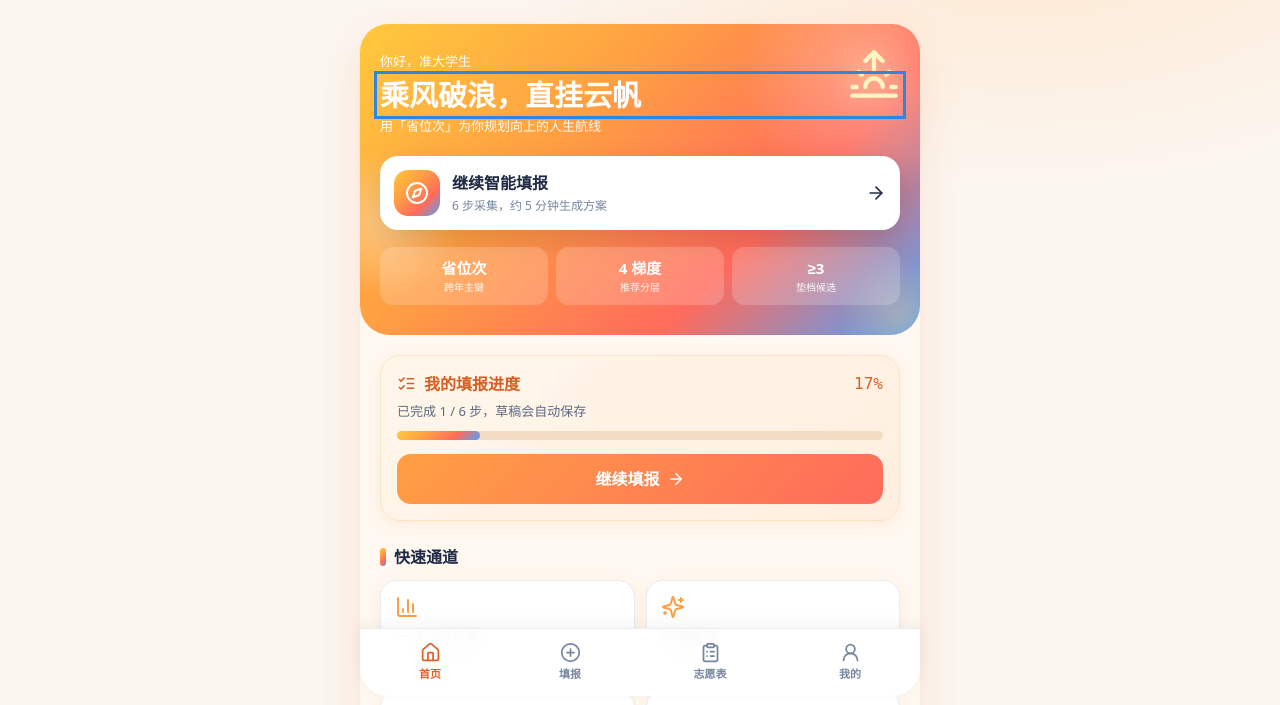
关键主流程 › 从首页进入向导，基于已保存的动态草稿进入成绩步骤
The image size is (1280, 705).
Click the link "继续智能填报 6 步采集，约 5 分钟生成方案" at (417, 193), box [380,156,900,230]
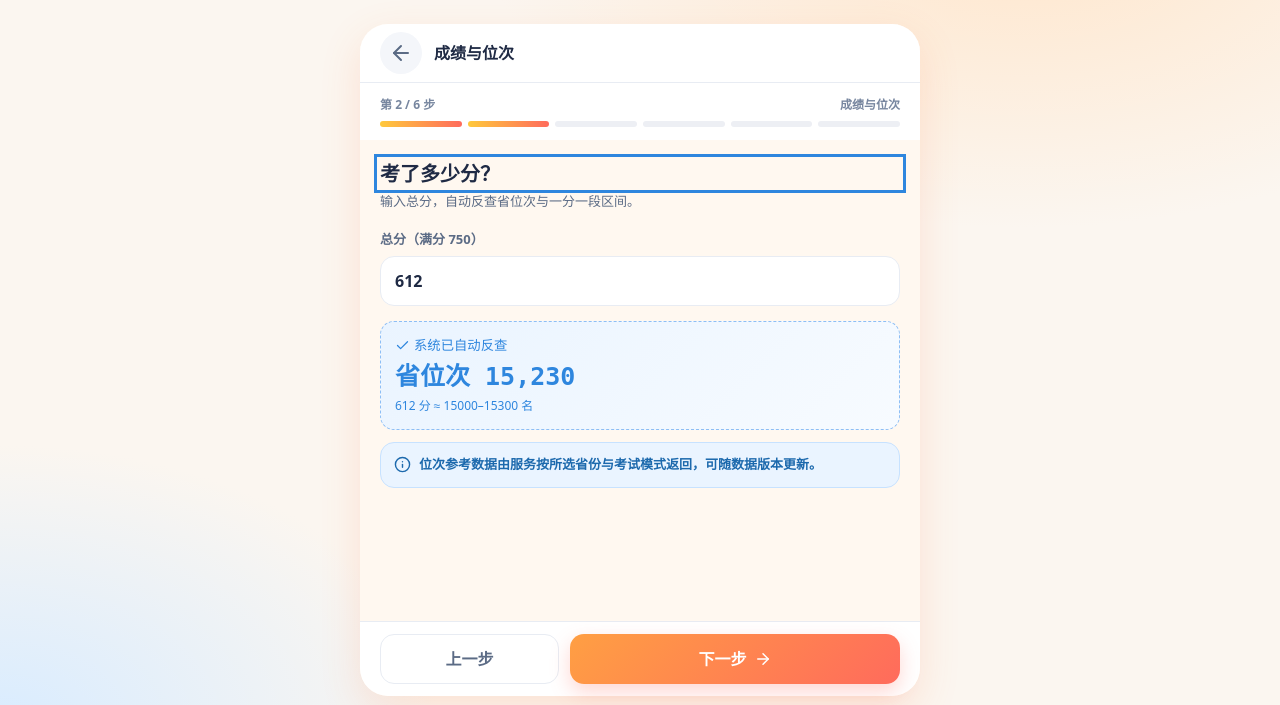
Check: the heading "考了多少分？" is shown, box [380,160,500,187]
Check: the text "省位次 15,230" is shown, box [395,358,575,396]
